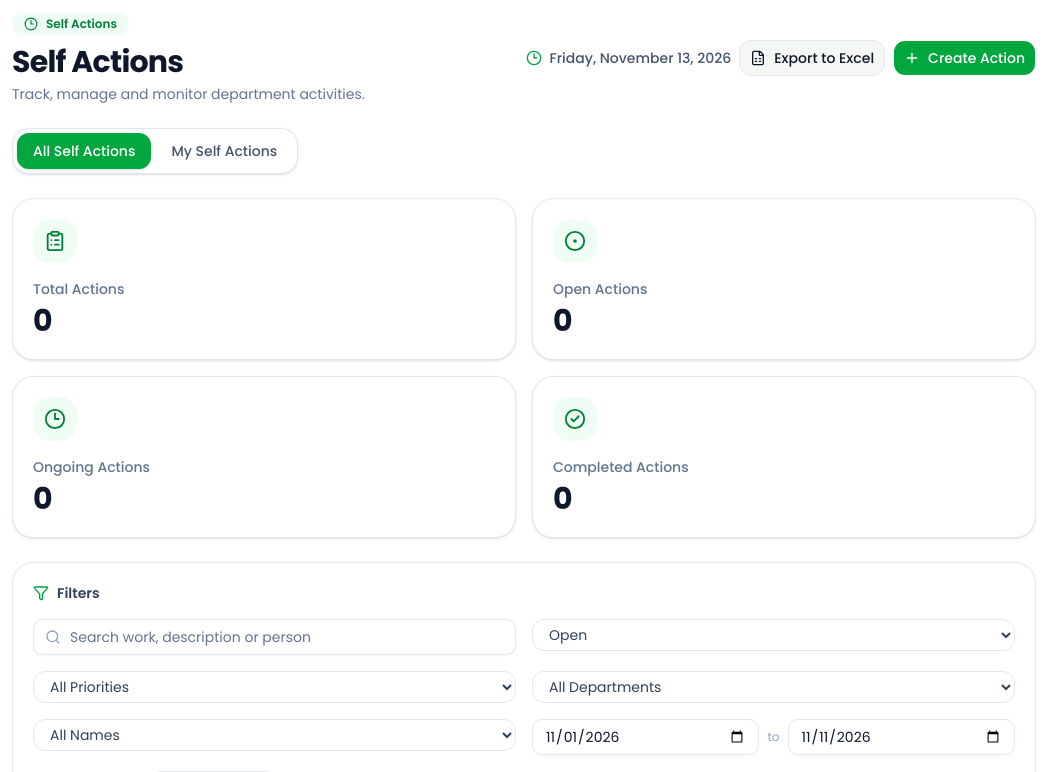
Test: Self Actions export › exports the filters the screen is showing and leaves pagination alone
The width and height of the screenshot is (1048, 772).
What coordinates should you click on to do the following:
click the button "Export to Excel"
I would click on:
 (812, 58)
Its box is [739,40,885,76].
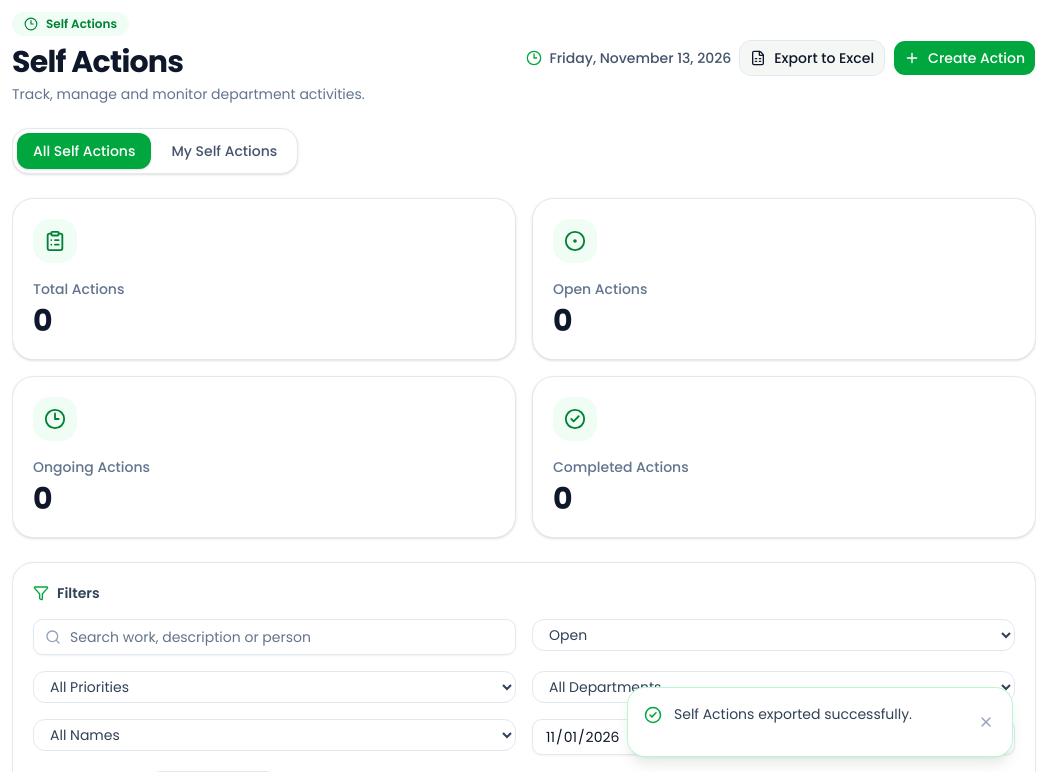
Expected: the text "Self Actions exported successfully." is shown, [674,704,912,724]
